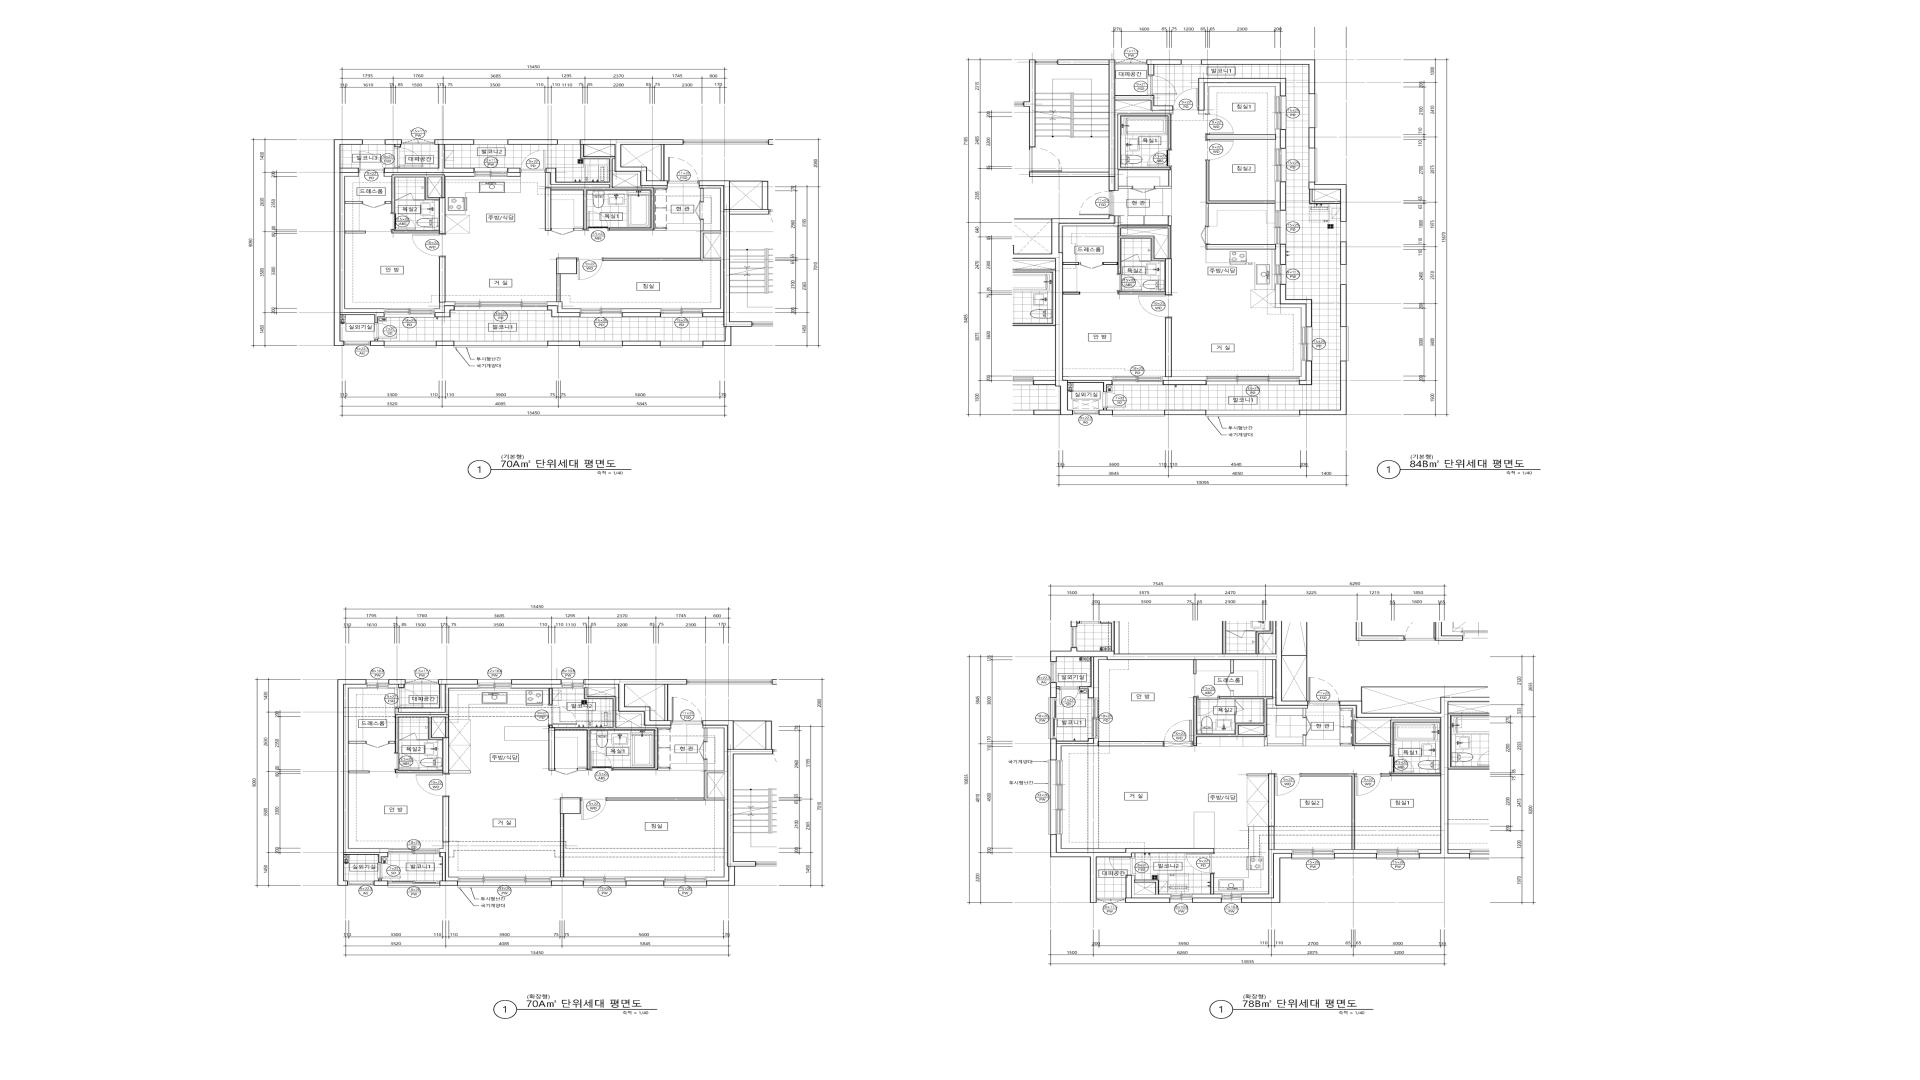door: (1308, 677, 1340, 703), (667, 157, 699, 183), (1079, 191, 1112, 216), (1029, 147, 1062, 172), (671, 697, 702, 723), (416, 773, 449, 797), (1138, 295, 1172, 318), (1164, 720, 1194, 746), (412, 234, 445, 257), (394, 147, 423, 168), (580, 798, 607, 820), (1186, 853, 1214, 874), (549, 704, 577, 725), (1148, 75, 1177, 95), (1355, 774, 1381, 796), (1275, 774, 1301, 796), (577, 258, 603, 280), (520, 150, 546, 172), (395, 688, 423, 708), (1173, 88, 1198, 110), (358, 151, 384, 172), (1206, 114, 1233, 134), (1206, 140, 1233, 160), (1109, 857, 1135, 875), (590, 751, 613, 770), (1390, 756, 1414, 774), (1118, 274, 1142, 292), (1197, 697, 1219, 716), (587, 211, 609, 230), (1147, 150, 1171, 167), (392, 213, 415, 230), (1103, 392, 1126, 408), (374, 323, 397, 339), (378, 863, 400, 879), (1059, 687, 1079, 704), (695, 201, 704, 221), (366, 741, 389, 748), (1132, 186, 1155, 193), (1080, 262, 1103, 269), (551, 228, 574, 235), (362, 201, 385, 208), (555, 768, 578, 775), (1121, 254, 1140, 262), (1226, 673, 1234, 691), (1303, 717, 1311, 735), (399, 733, 417, 741), (395, 193, 413, 201), (1201, 226, 1209, 244), (699, 742, 707, 760), (1235, 699, 1244, 712)
wall: (1050, 621, 1308, 706), (606, 726, 728, 881), (1029, 60, 1173, 191), (1340, 697, 1449, 858), (1055, 216, 1115, 415), (703, 720, 773, 886), (699, 181, 769, 346), (1050, 834, 1214, 903), (337, 679, 388, 886), (334, 140, 384, 346), (555, 684, 671, 770), (545, 145, 654, 231), (340, 173, 384, 313), (584, 679, 687, 726), (603, 220, 720, 261), (1103, 226, 1172, 295), (580, 140, 683, 186), (1115, 110, 1173, 191), (1206, 160, 1275, 226), (1301, 774, 1355, 849), (1194, 696, 1273, 746), (1201, 60, 1315, 94), (384, 139, 474, 173), (699, 186, 723, 312), (1117, 114, 1171, 170), (395, 679, 478, 715), (1198, 78, 1286, 110), (1241, 853, 1292, 903), (1198, 83, 1280, 114), (1300, 361, 1347, 415), (1241, 849, 1292, 898), (1267, 660, 1308, 717), (389, 715, 449, 753), (1059, 216, 1119, 253), (551, 814, 583, 881), (391, 175, 445, 213), (613, 159, 667, 188), (1309, 182, 1347, 222), (1340, 706, 1441, 720), (1280, 284, 1312, 327), (1275, 284, 1306, 327), (1125, 875, 1170, 903), (1057, 834, 1126, 852), (1282, 655, 1307, 701), (511, 685, 561, 704), (1050, 739, 1094, 760), (1057, 739, 1099, 760), (1132, 875, 1170, 898), (439, 842, 457, 881), (439, 852, 457, 886), (1094, 657, 1107, 698), (1268, 774, 1275, 849), (1147, 60, 1182, 75), (1029, 60, 1035, 147), (707, 773, 726, 798), (1264, 735, 1306, 746), (1206, 134, 1276, 140), (1165, 318, 1172, 377), (1134, 880, 1159, 895), (547, 306, 580, 317), (384, 173, 474, 177), (1206, 244, 1276, 249), (556, 258, 577, 274), (1098, 741, 1164, 746), (547, 302, 580, 312), (1155, 170, 1172, 189), (548, 725, 555, 771), (560, 798, 580, 814), (442, 797, 449, 842), (1299, 361, 1312, 385), (507, 139, 558, 145), (511, 679, 561, 685), (1340, 285, 1347, 327), (439, 257, 445, 303), (442, 737, 449, 773), (587, 688, 616, 696), (439, 197, 445, 234), (1334, 853, 1377, 858), (1163, 380, 1206, 385), (435, 306, 454, 317), (1165, 410, 1206, 415), (1063, 376, 1112, 380), (622, 312, 661, 317), (626, 881, 664, 886), (622, 341, 660, 346), (435, 302, 454, 312), (1334, 849, 1377, 853), (1163, 376, 1206, 380), (1280, 182, 1286, 210), (1340, 242, 1347, 265), (1050, 682, 1060, 698), (551, 881, 583, 886), (548, 341, 580, 346), (622, 308, 661, 312), (388, 679, 405, 688), (626, 877, 664, 881), (1192, 898, 1222, 903), (395, 770, 443, 773), (392, 230, 439, 233), (1275, 182, 1280, 210), (1299, 361, 1306, 380), (1280, 244, 1286, 265), (1192, 894, 1222, 898), (1309, 128, 1315, 148), (1280, 129, 1286, 149), (385, 140, 402, 147), (556, 274, 560, 302), (661, 145, 664, 181), (508, 168, 520, 177), (665, 685, 668, 720), (1275, 244, 1280, 265), (374, 879, 388, 886), (370, 339, 384, 346), (1099, 408, 1113, 415), (1275, 130, 1280, 149), (436, 341, 454, 346), (1419, 849, 1441, 853), (1211, 874, 1214, 894), (700, 188, 704, 202), (348, 741, 366, 744), (1230, 660, 1234, 673), (345, 201, 362, 204), (1247, 774, 1268, 776), (1193, 660, 1196, 674), (345, 231, 366, 233), (449, 771, 470, 773), (349, 771, 369, 773), (388, 685, 398, 688), (574, 228, 584, 231), (1168, 216, 1171, 226), (1340, 744, 1353, 746), (654, 228, 666, 230), (417, 739, 428, 741), (385, 201, 392, 204), (1231, 691, 1234, 697), (1132, 853, 1135, 857), (1235, 712, 1236, 723), (413, 200, 424, 201), (1140, 261, 1150, 262), (734, 721, 766, 721), (730, 181, 762, 181)
window: (1048, 760, 1063, 835), (457, 877, 551, 888), (454, 301, 547, 311), (1206, 376, 1299, 385), (454, 341, 548, 348), (1206, 410, 1300, 417), (664, 877, 707, 888), (583, 877, 626, 888), (1292, 849, 1334, 860), (1377, 849, 1419, 860), (1112, 376, 1163, 385), (384, 308, 435, 317), (580, 308, 622, 317), (1301, 327, 1312, 361), (1275, 210, 1286, 244), (1275, 96, 1286, 130), (1048, 698, 1057, 739), (661, 308, 702, 317), (388, 881, 440, 888), (384, 341, 436, 348), (1113, 410, 1165, 417), (1275, 149, 1286, 182), (388, 848, 439, 854), (474, 168, 508, 177), (1340, 327, 1349, 361), (660, 341, 703, 348), (478, 679, 511, 688), (580, 341, 622, 348), (1092, 698, 1099, 739), (1309, 148, 1317, 182), (1309, 94, 1317, 128), (1275, 265, 1286, 284), (561, 679, 584, 688), (474, 139, 508, 145), (1170, 894, 1192, 903), (405, 678, 438, 684), (366, 679, 388, 688), (402, 138, 434, 144), (1222, 894, 1241, 903), (1097, 898, 1125, 904), (1115, 59, 1147, 64), (1050, 662, 1057, 682), (1340, 222, 1347, 242), (1340, 265, 1347, 285), (558, 139, 580, 145), (348, 881, 374, 886), (1073, 410, 1099, 415), (344, 341, 370, 346), (1035, 60, 1058, 65), (363, 140, 385, 145), (1182, 60, 1201, 65)
